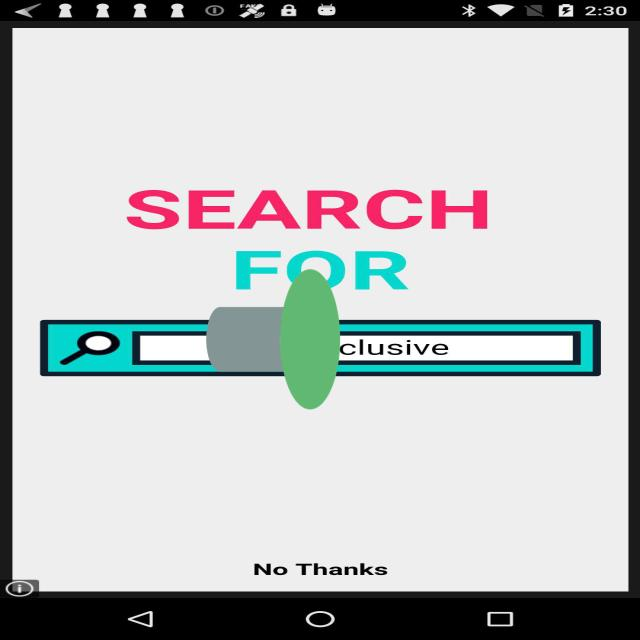social proof: (206, 183, 340, 496)
